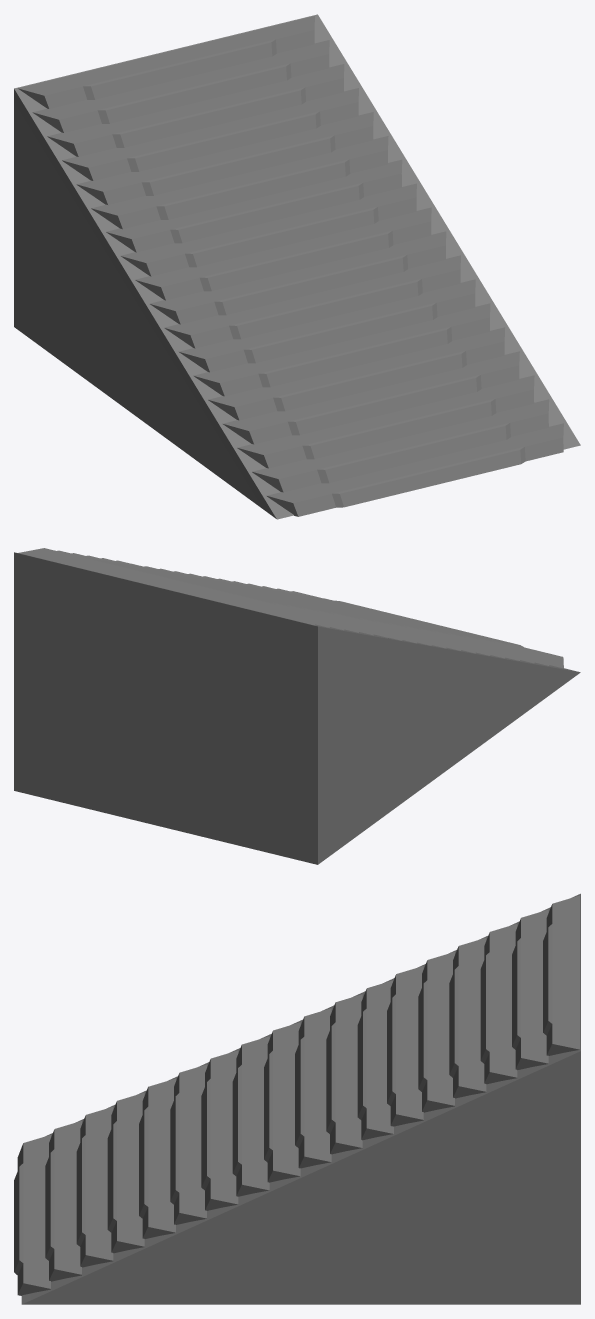
The model's file is q-scifi-mod-platform-stairs-4widetall.glb.
3 renders of one model, top to bottom at view 1: azimuth 30°, elevation 25°; view 2: azimuth 150°, elevation 25°; view 3: azimuth 270°, elevation 25°, orthographic. The views are drawn at different scales.
Parts seen in each view (by area): view 1: Platform_Stairs_4WideTall; view 2: Platform_Stairs_4WideTall; view 3: Platform_Stairs_4WideTall.
Boxes of the visible parts, x1,y1,x2,y2 form: Platform_Stairs_4WideTall: (14, 14, 580, 519); Platform_Stairs_4WideTall: (14, 548, 580, 864); Platform_Stairs_4WideTall: (14, 893, 580, 1304).
Size of the model in its own units: 4 by 3.01 by 6.08.
2 materials, 2 textured.
